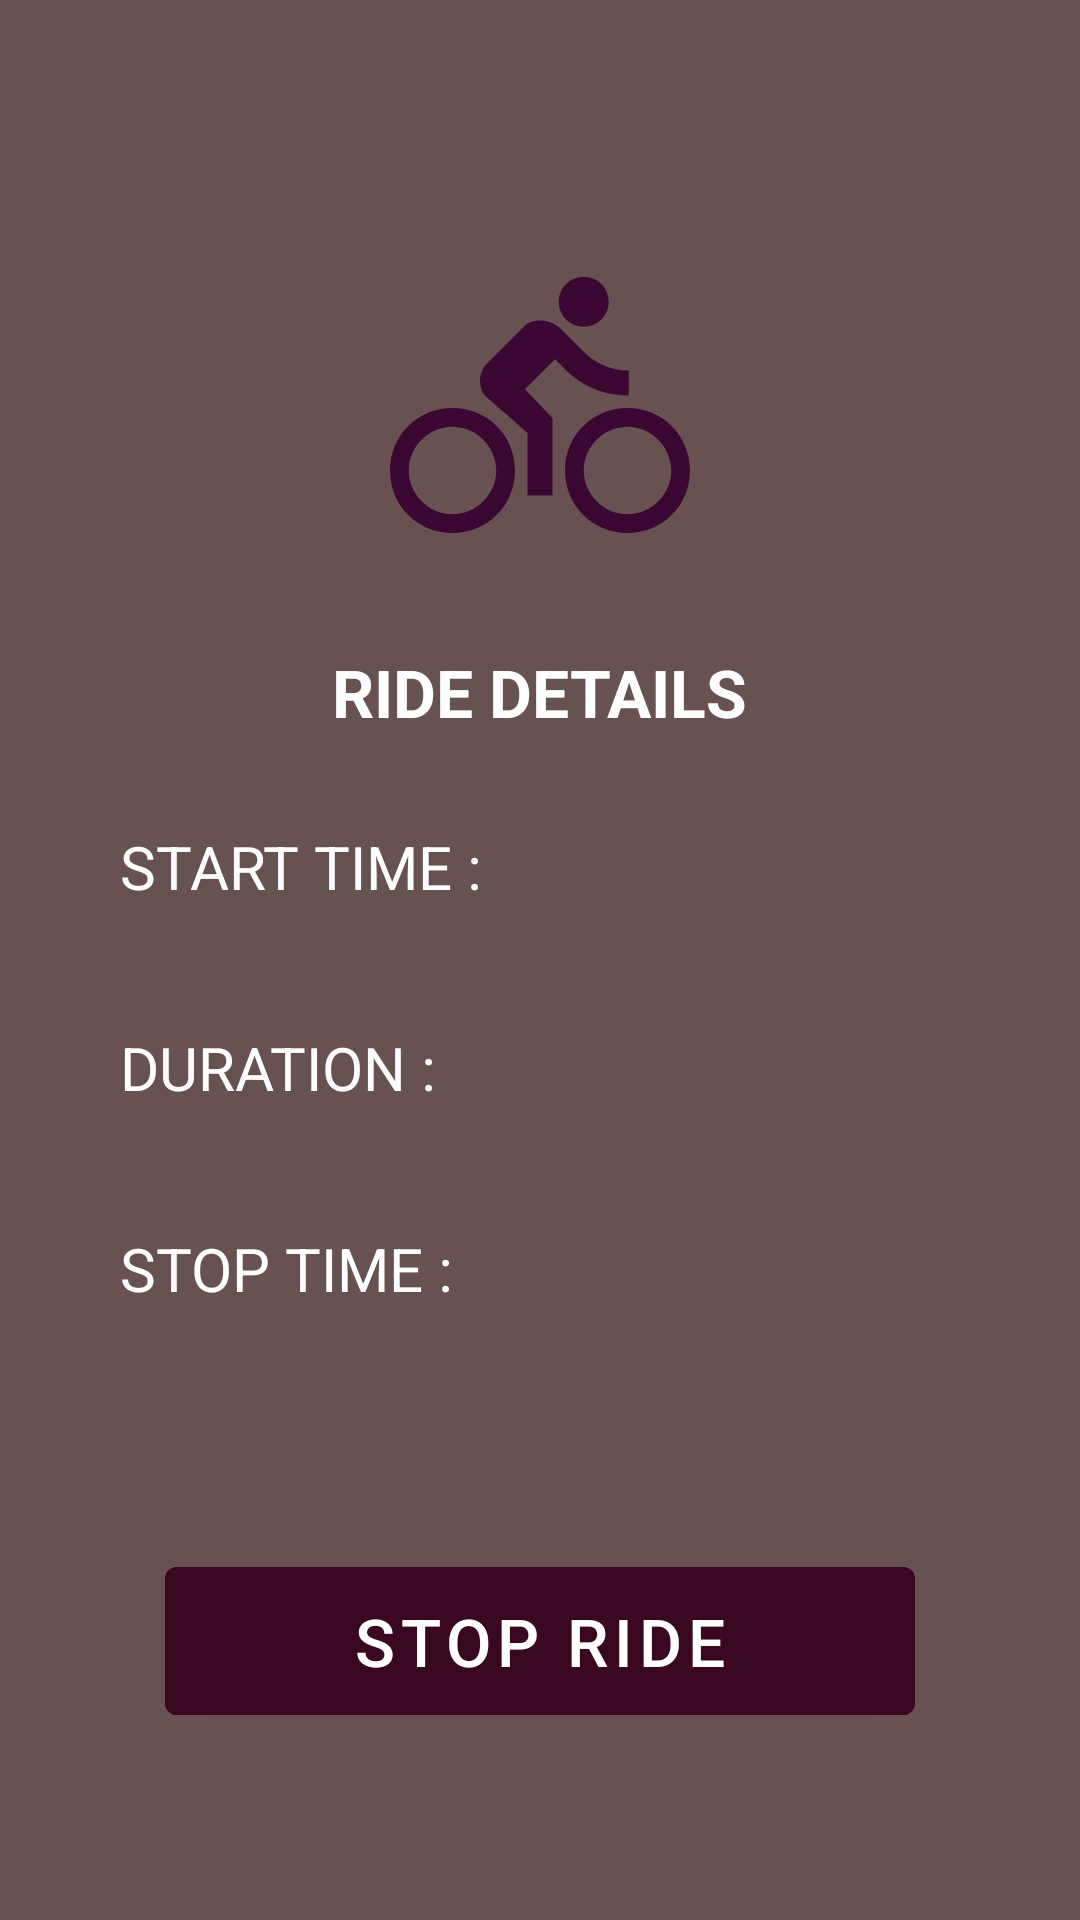

Icons on this 1080 x 1920 Android screen, each with its box as box(x1, y1, x2, y2):
directions bike: box(390, 277, 690, 533)
